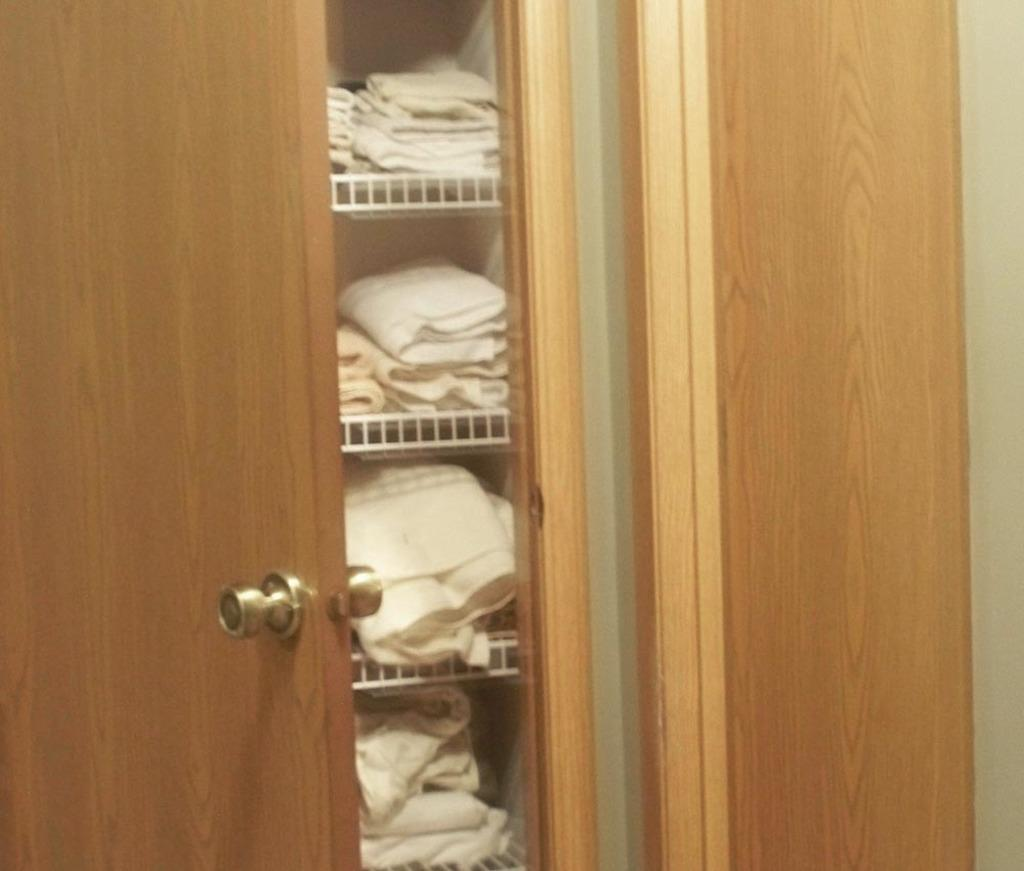door: (6, 10, 356, 852)
handle: (207, 554, 319, 656), (345, 552, 385, 626)
